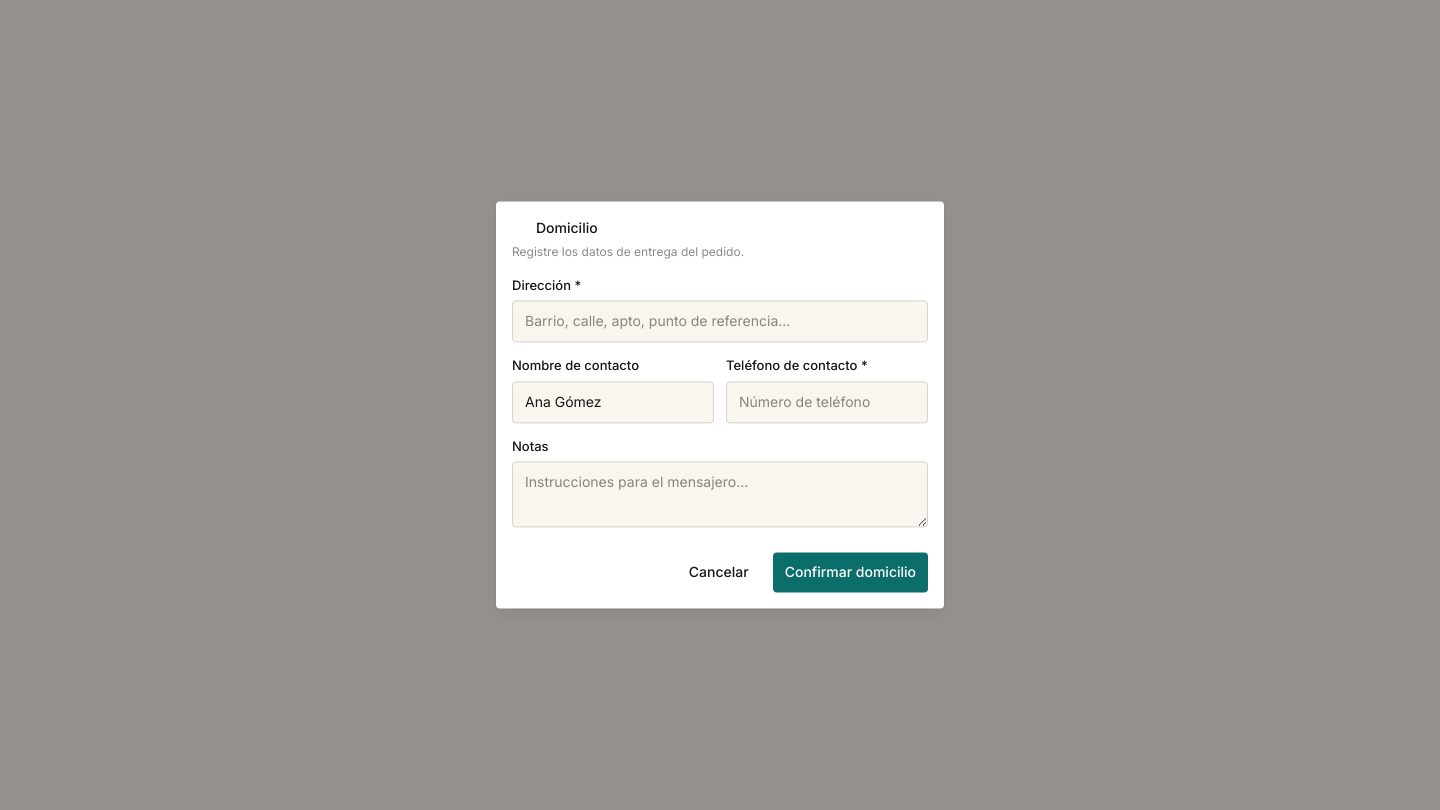
Test: DeliveryFormDialog › shows the phone-required error when the phone is empty
Type "Calle 10 #20-30" into the field labelled "Dirección *" at (720, 322), box [512,301,928,343]
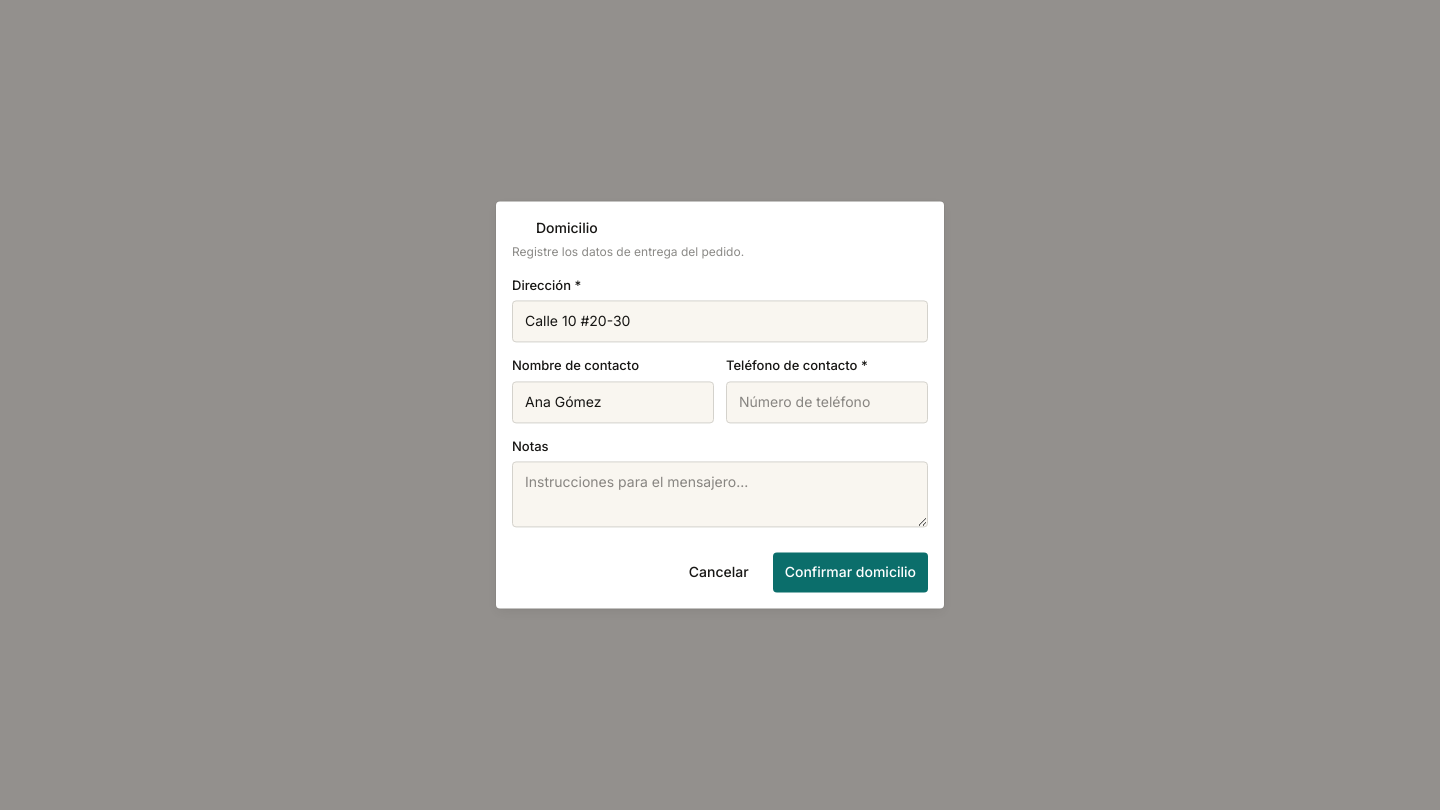
Click the button "Confirmar domicilio" at (850, 573), box [773,553,928,593]
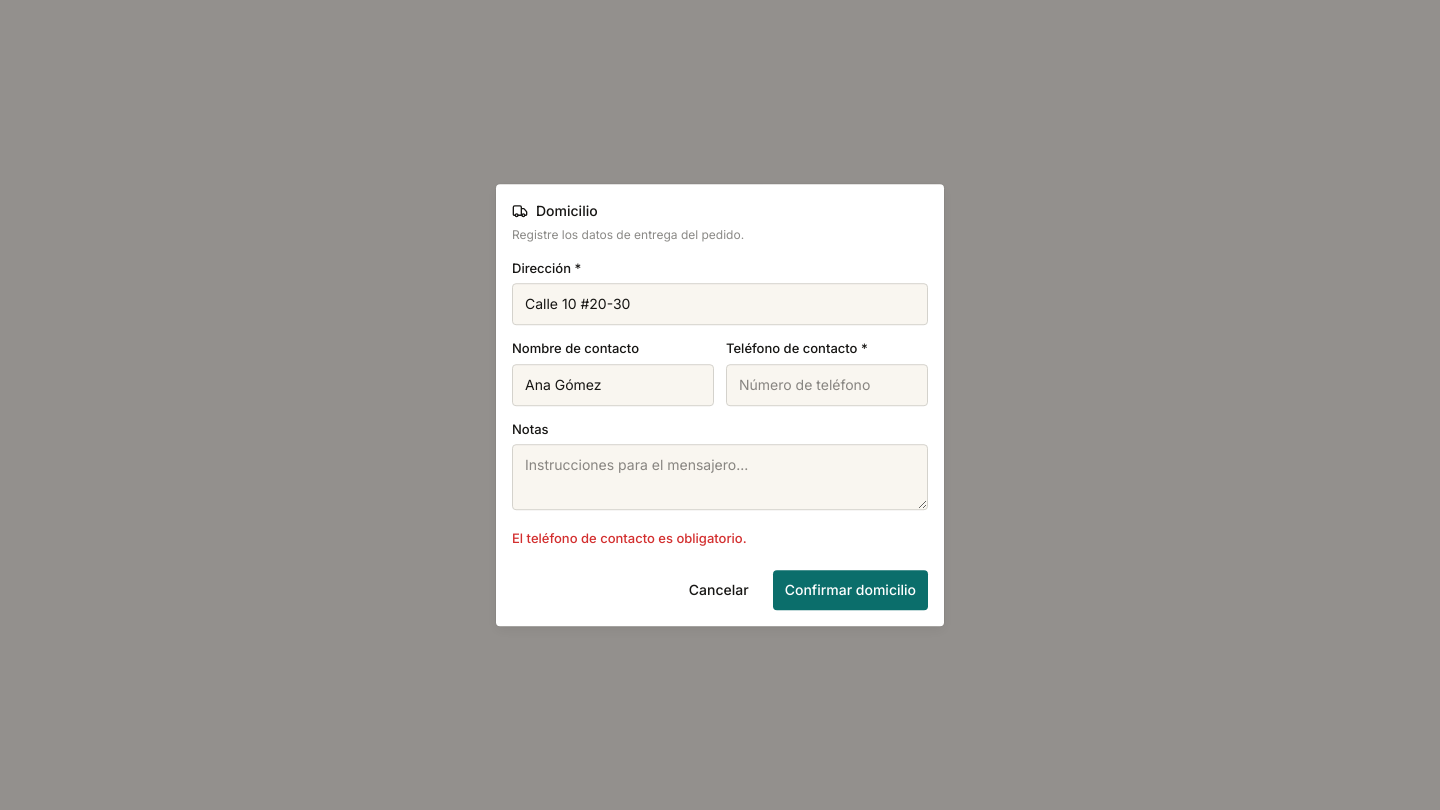
Check: the message reads "El teléfono de contacto es obligatorio.", box [512,530,747,546]
